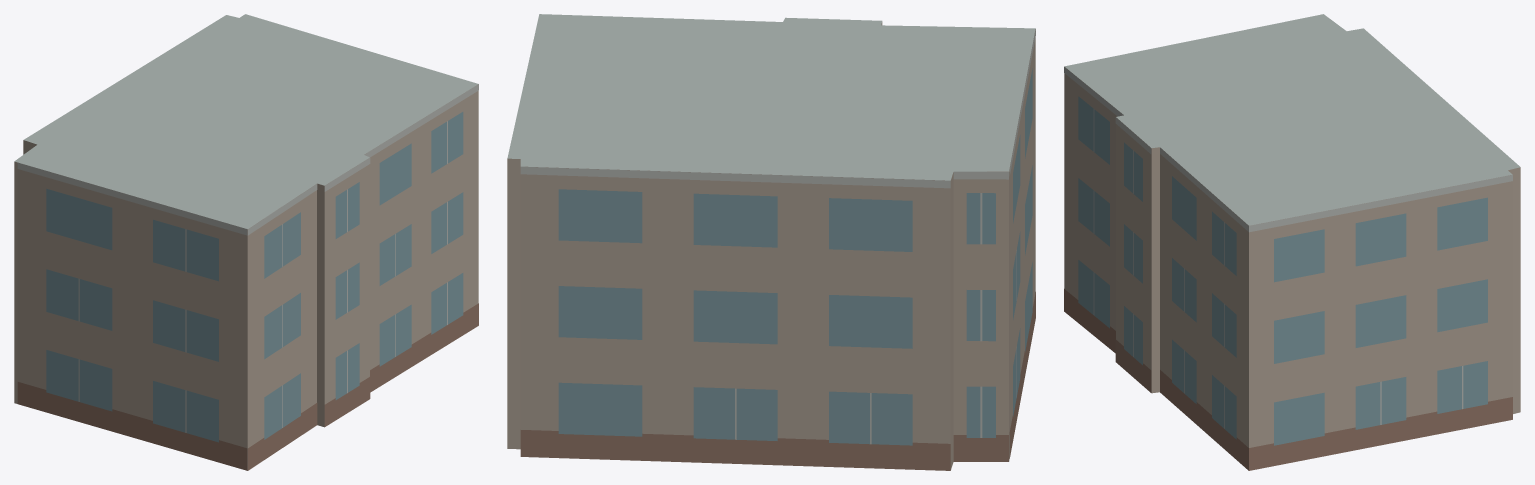
The model's file is survey-upis-32708319.glb.
3 views of the same model, side by side, from view 1: azimuth 30°, elevation 25°; view 2: azimuth 150°, elevation 25°; view 3: azimuth 270°, elevation 25° (orthographic). The views are drawn at different scales.
Parts seen in each view (by area): view 1: survey-upis-32708319.tmp; view 2: survey-upis-32708319.tmp; view 3: survey-upis-32708319.tmp.
Boxes of the visible parts, x1=… form: survey-upis-32708319.tmp: x1=14, y1=14, x2=478, y2=470; survey-upis-32708319.tmp: x1=507, y1=14, x2=1035, y2=470; survey-upis-32708319.tmp: x1=1064, y1=14, x2=1520, y2=470.
Size of the model in its own units: 16.97 by 9.15 by 15.46.
